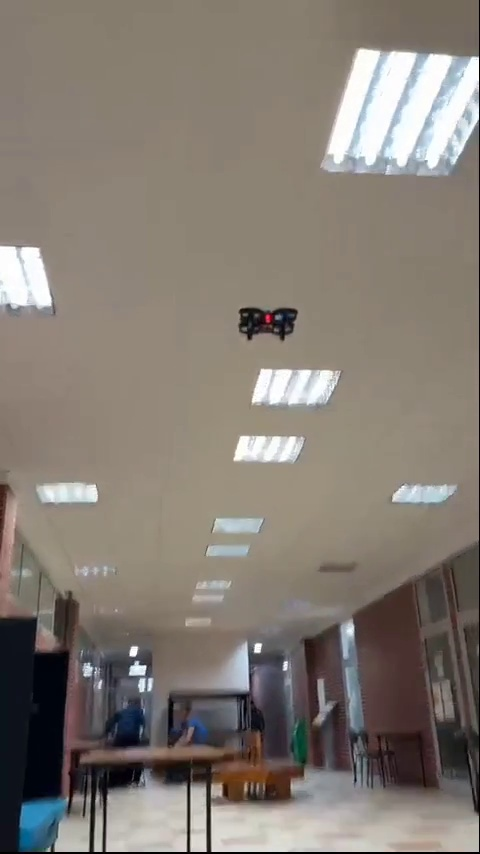drone: (239, 307, 298, 345)
no vest: (165, 700, 215, 751), (104, 698, 144, 743)
